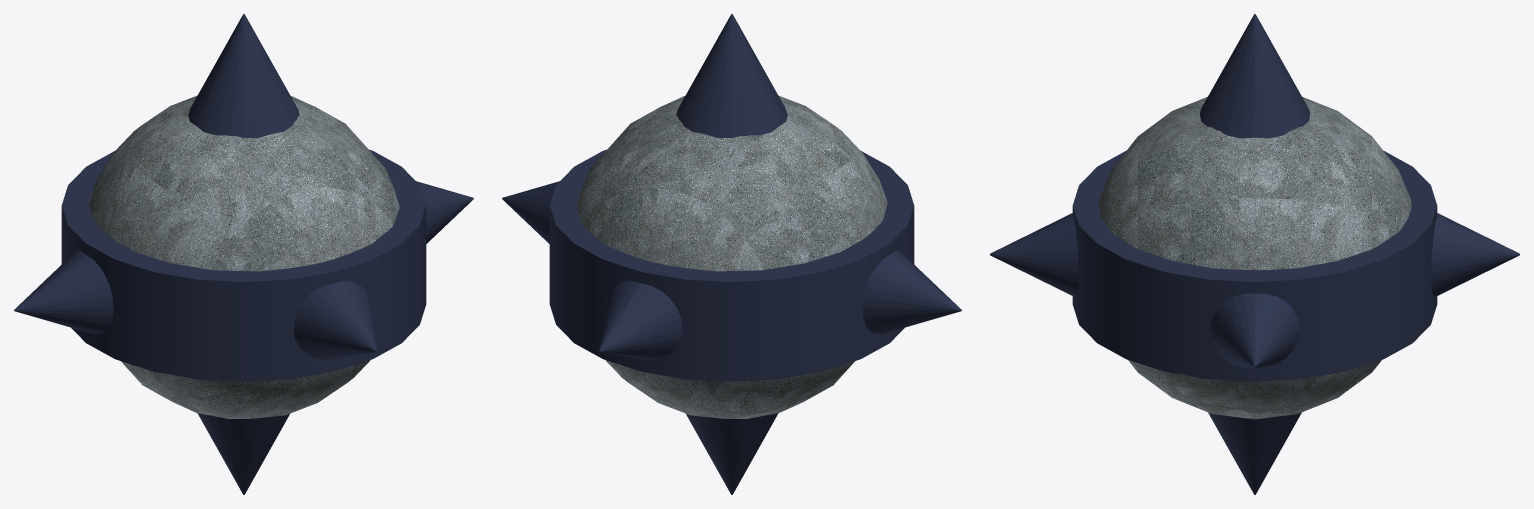
The model's file is spikeBall.fbx.
The picture shows the model from 3 angles, left to right: view 1: azimuth 30°, elevation 25°; view 2: azimuth 150°, elevation 25°; view 3: azimuth 270°, elevation 25°; orthographic projection.
Visible parts, largest first — view 1: mergedBlocks; view 2: mergedBlocks; view 3: mergedBlocks.
Part boxes in pixels (x1,y1,x2,y2): mergedBlocks: (14,14,473,494); mergedBlocks: (502,14,961,494); mergedBlocks: (990,14,1519,494).
Bounding box in the file's own units: 16 × 16 × 16.
